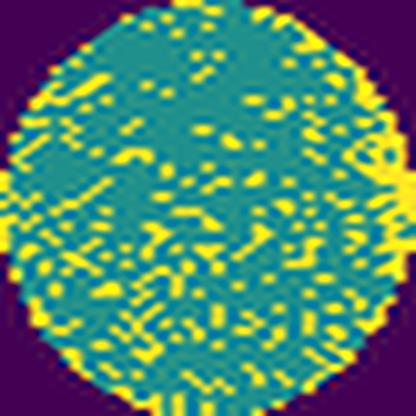Edge-Loc: (258, 0, 415, 392)
